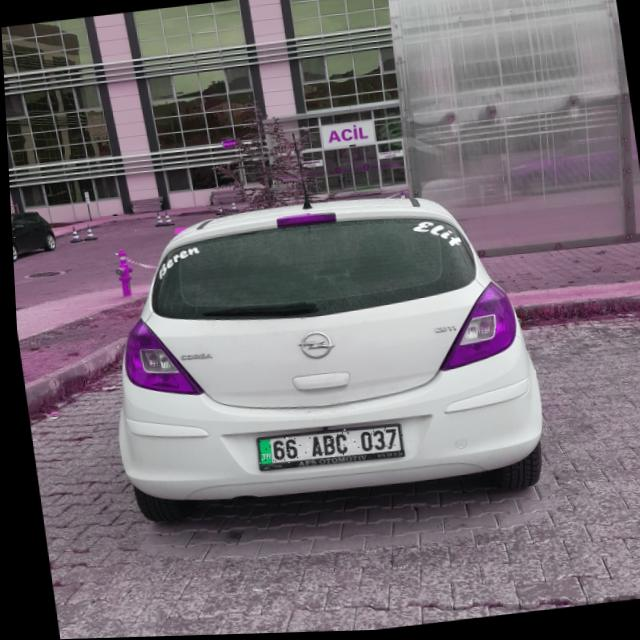license_plate: (250, 424, 400, 468)
